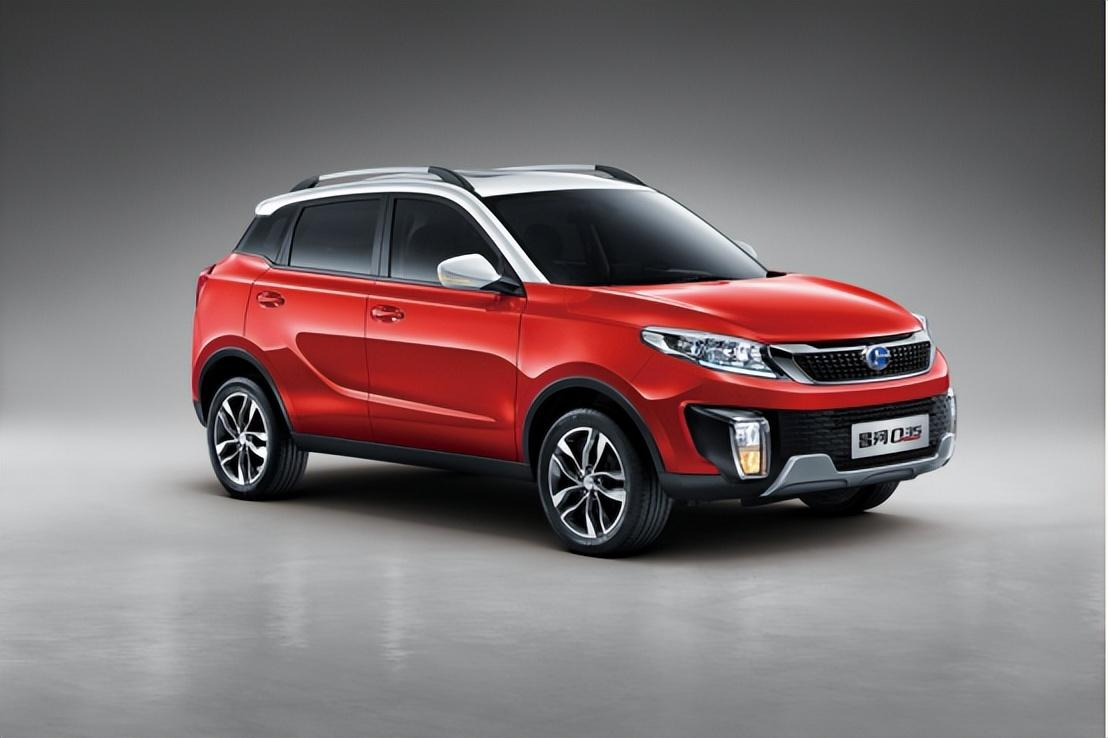汽车: (178, 168, 976, 561)
